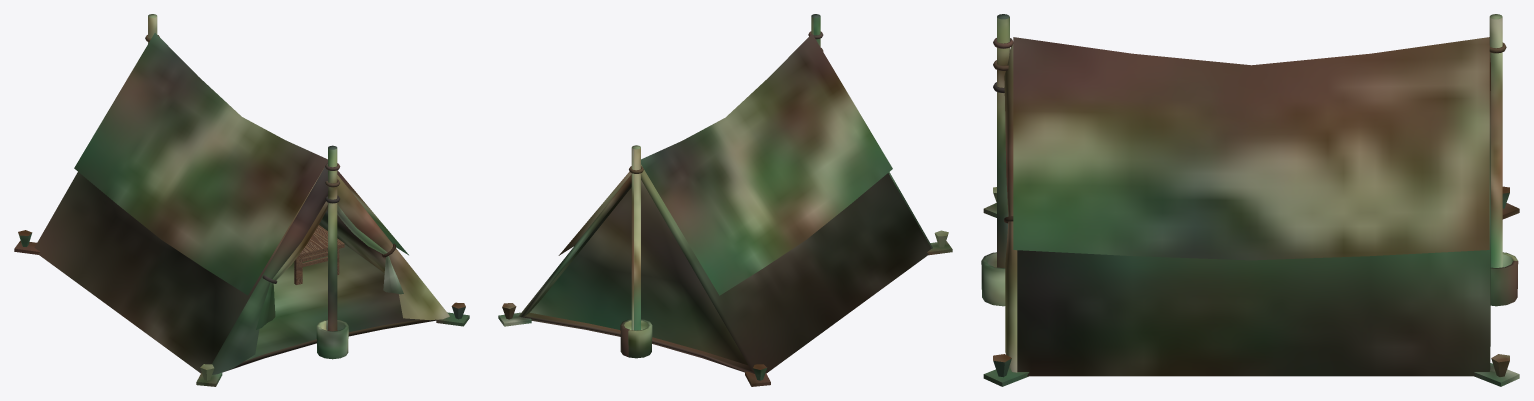
3 views of the same model, side by side, from view 1: azimuth 30°, elevation 25°; view 2: azimuth 150°, elevation 25°; view 3: azimuth 270°, elevation 25° (orthographic). The views are drawn at different scales.
Parts seen in each view (by area): view 1: Camp, desk; view 2: Camp; view 3: Camp.
Part boxes in pixels (bbox=[...]): Camp: bbox=[14, 14, 469, 386]; desk: bbox=[294, 225, 344, 284]; Camp: bbox=[498, 14, 952, 386]; Camp: bbox=[981, 14, 1519, 386].
Bounding box in the file's own units: 224 × 160 × 279.
Materials: 2 (2 with a texture image).
